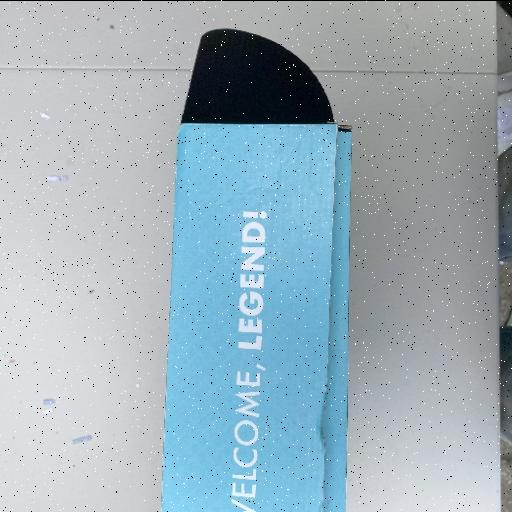Cardboard: (159, 119, 352, 511)
